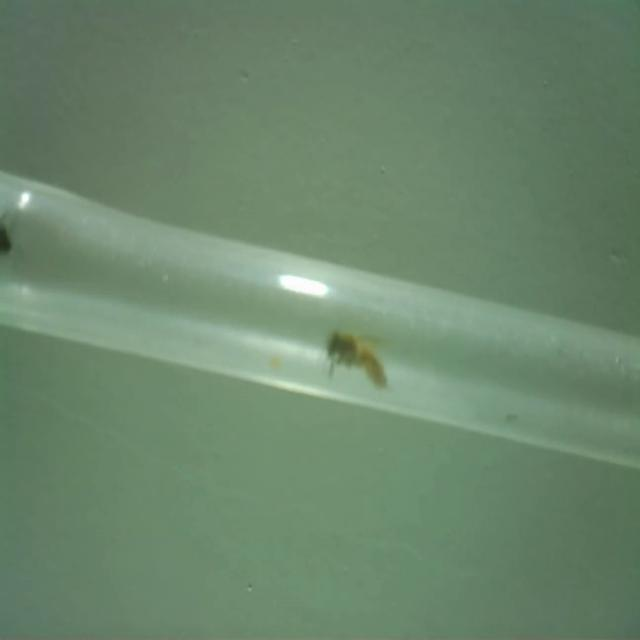Honeybee-Detection: (324, 328, 393, 388), (0, 206, 13, 270)
